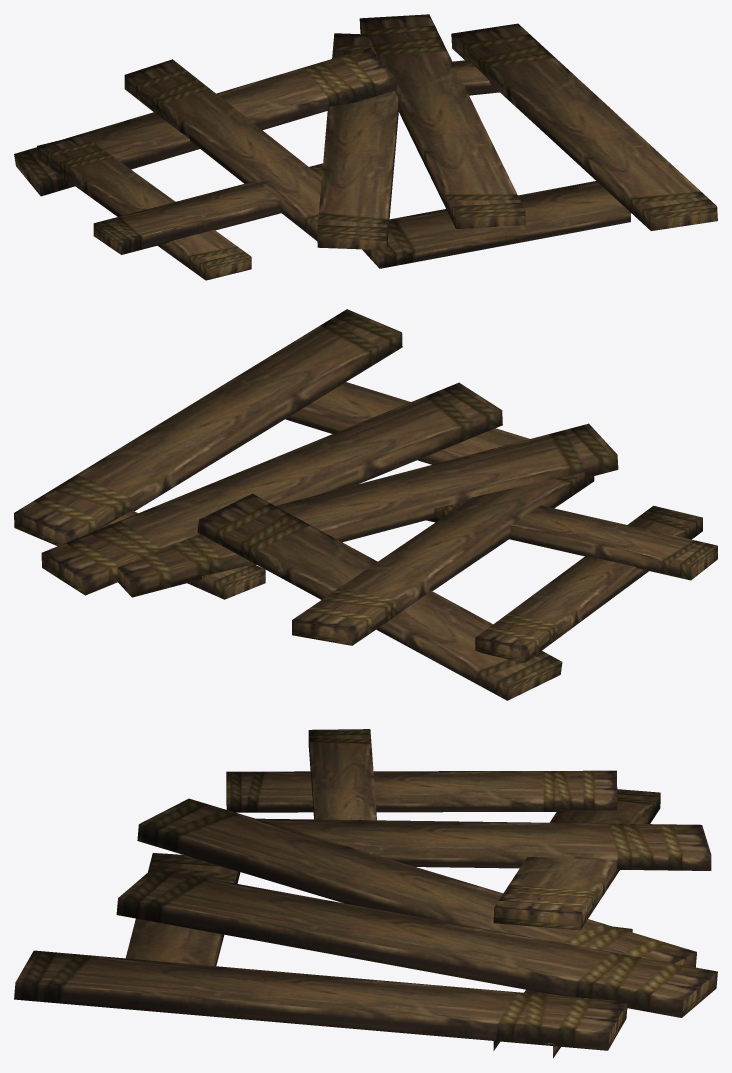
The model's file is 10401_wood02.FBX.
The picture shows the model from 3 angles, top to bottom: view 1: azimuth 30°, elevation 25°; view 2: azimuth 150°, elevation 25°; view 3: azimuth 270°, elevation 25°; orthographic projection. The views are drawn at different scales.
Parts seen in each view (by area): view 1: 10401_wood02; view 2: 10401_wood02; view 3: 10401_wood02.
Boxes of the visible parts, x1,y1,x2,y2 form: 10401_wood02: (14, 14, 717, 280); 10401_wood02: (14, 309, 717, 700); 10401_wood02: (14, 729, 717, 1058).
Size of the model in its own units: 723 by 85.75 by 716.
